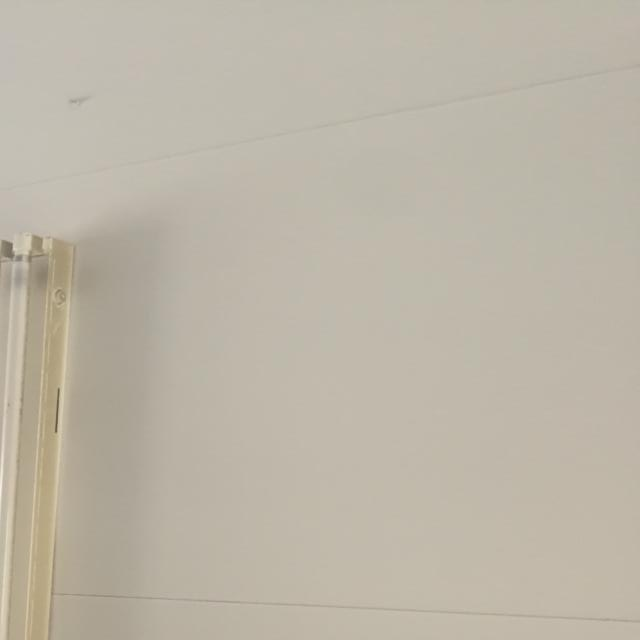fluorescent tube: (0, 195, 96, 640)
